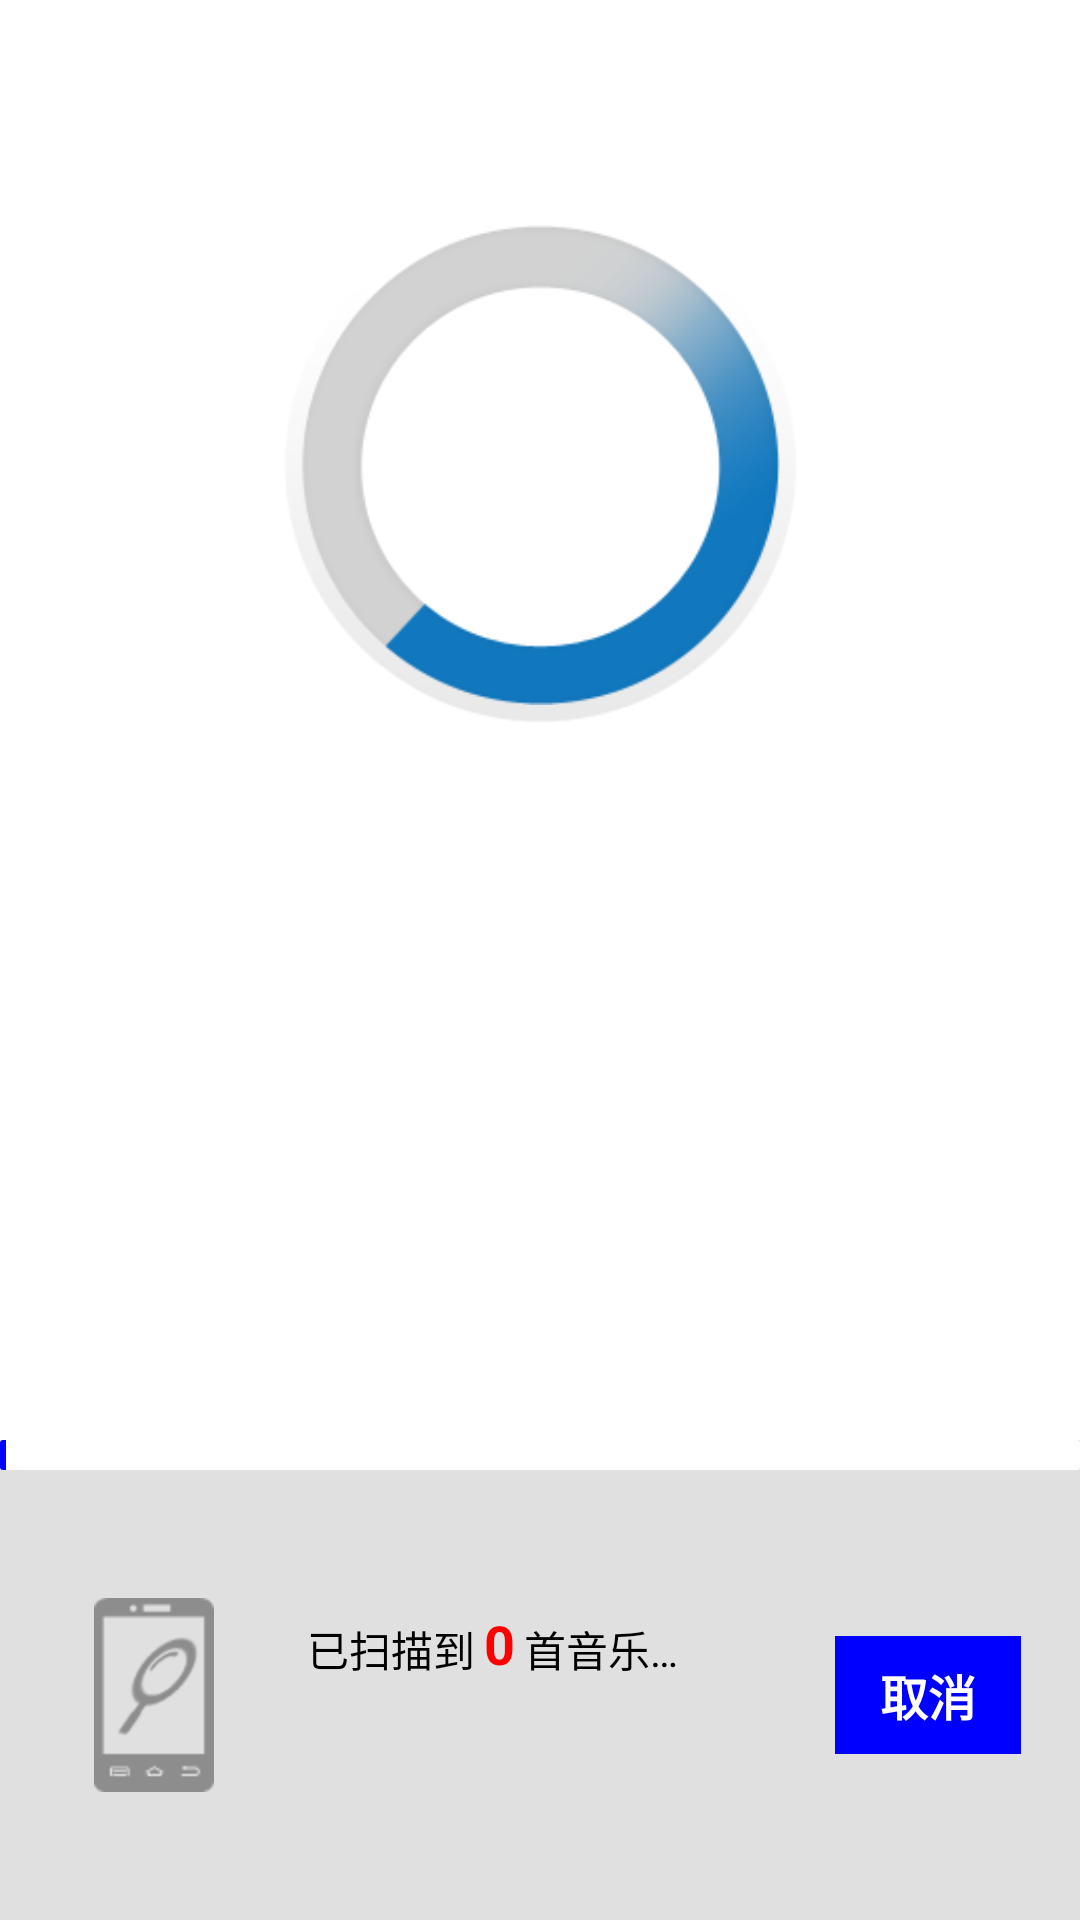

Screen size 1080px×1920px. Icon name, then its center in pixels as point (x, y):
scan phone: point (154, 1695)
